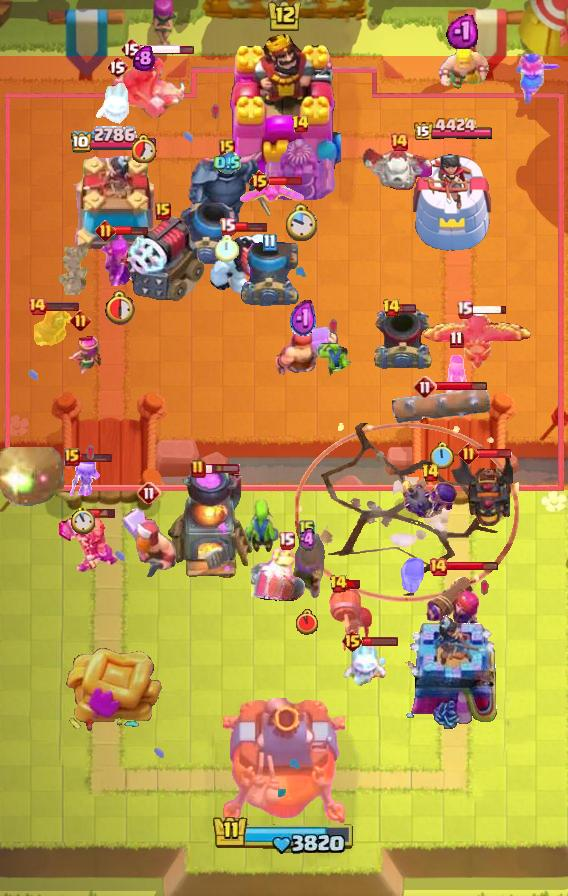archer: (57, 335, 103, 379)
archer-evolution: (98, 226, 144, 286)
bar: (140, 43, 195, 56), (446, 561, 499, 572), (435, 381, 488, 392), (204, 463, 241, 475), (44, 300, 80, 312), (82, 507, 117, 519), (269, 175, 304, 187), (362, 636, 399, 647), (471, 304, 508, 315), (113, 225, 149, 236), (234, 221, 267, 233), (78, 452, 113, 463), (477, 448, 512, 459), (398, 303, 417, 314), (345, 579, 362, 590)
bar-level: (137, 481, 161, 505), (413, 375, 437, 399), (341, 629, 364, 653), (248, 169, 271, 193), (106, 55, 128, 79), (120, 37, 142, 61), (458, 443, 479, 464), (70, 310, 91, 331), (95, 220, 116, 241), (428, 557, 448, 577), (27, 296, 47, 316), (389, 132, 409, 152), (329, 574, 348, 594), (421, 463, 440, 483), (382, 298, 401, 318), (291, 114, 310, 134), (278, 531, 295, 550), (456, 300, 473, 319), (219, 217, 236, 236), (299, 519, 315, 539), (190, 459, 206, 479), (64, 448, 80, 466), (155, 202, 171, 220), (219, 139, 235, 157), (449, 330, 464, 349), (262, 233, 277, 252)
barbarian: (433, 44, 491, 96)
bat-evolution: (237, 179, 307, 207)
bomber-evolution: (401, 478, 459, 522)
clock: (284, 203, 317, 243), (105, 289, 138, 325), (429, 442, 454, 471), (132, 134, 157, 163), (71, 507, 95, 534), (215, 235, 239, 262), (296, 609, 318, 635)
dirt: (54, 247, 92, 295)
elixir: (446, 12, 478, 49), (290, 299, 317, 340), (214, 151, 241, 175), (133, 45, 155, 71), (299, 527, 316, 553)
firecracker-evolution: (423, 569, 483, 655)
goblin: (242, 496, 280, 554), (316, 338, 352, 378)
ice-spirit: (341, 639, 389, 687), (95, 83, 139, 129)
king-tower: (227, 29, 341, 181), (223, 698, 345, 826)
king-tower-bar: (212, 814, 356, 856)
lumberjack: (120, 505, 178, 581), (268, 322, 338, 378)
mortar: (372, 305, 434, 373), (239, 242, 299, 306), (176, 201, 236, 265)
musketeer: (288, 532, 326, 598)
queen-tower: (405, 614, 502, 731), (410, 145, 496, 256), (68, 156, 160, 256)
royal-ghost: (251, 548, 321, 606)
skeleton-evolution: (65, 456, 101, 496), (399, 558, 430, 596), (444, 354, 468, 398)
tesla: (265, 135, 335, 203)
the-log: (392, 388, 490, 424)
tower-bar: (70, 126, 158, 155), (413, 117, 494, 143)
valkyrie: (514, 52, 562, 106)
valkyrie-evolution: (56, 512, 120, 574)
wall-breaker: (327, 587, 375, 653)
wizard: (30, 302, 74, 352)
